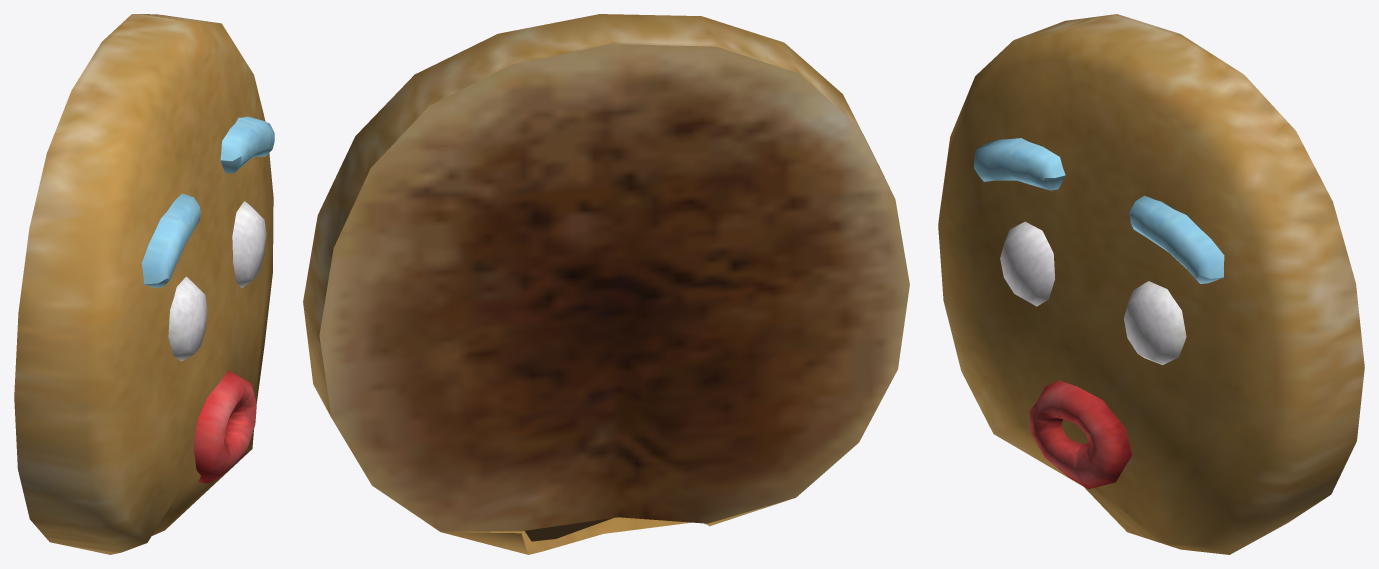
Rendered from gmh.glb.
3 views of the same model, side by side, from view 1: azimuth 30°, elevation 25°; view 2: azimuth 150°, elevation 25°; view 3: azimuth 270°, elevation 25° (orthographic). The views are drawn at different scales.
Visible parts, largest first — view 1: CHARACTER_Gingerbread Man_0; view 2: CHARACTER_Gingerbread Man_0; view 3: CHARACTER_Gingerbread Man_0.
Boxes of the visible parts, x1,y1,x2,y2 form: CHARACTER_Gingerbread Man_0: (14, 14, 274, 554); CHARACTER_Gingerbread Man_0: (303, 14, 909, 554); CHARACTER_Gingerbread Man_0: (938, 14, 1364, 554).
Bounding box in the file's own units: 1.91 × 2.19 × 1.75.
Materials: 1 (1 with a texture image).
